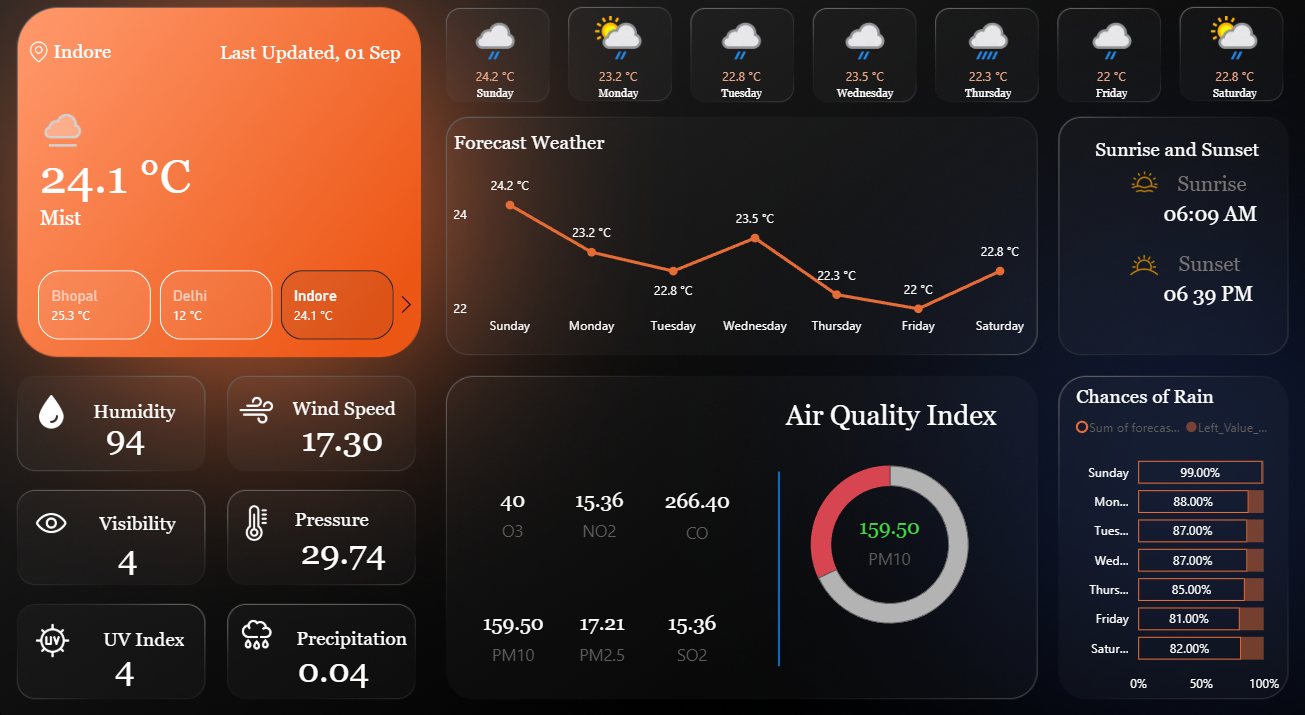

Layout of this report page (visuals, bound fields, positions):
{"tool":"powerbi","page":{"name":"Page 1","canvas":[1280,720],"ordinal":0},"visuals":[{"type":"advancedSlicerVisual","fields":{"Values":["Location.location.name"]},"box":[21,270.9,395.1,77.4],"z":0},{"type":"shape","box":[46.7,145.5,171.5,79.6],"z":1000},{"type":"shape","box":[46.6,196.2,324.2,58.2],"z":2000},{"type":"shape","box":[207.2,41.2,188,49.4],"z":3000},{"type":"shape","box":[60.4,43.9,102.9,42.5],"z":4000},{"type":"image","box":[22,50.8,49.4,30.2],"z":5000},{"type":"cardVisual","fields":{"Data":["Min(Current.current.condition.icon)"]},"box":[0,94.8,111.4,79.8],"z":6000},{"type":"image","box":[36.4,497.9,44.3,44.3],"z":7000},{"type":"image","box":[233.9,388.8,44.3,45.8],"z":8000},{"type":"image","box":[36.4,390.4,44.3,44.3],"z":9000},{"type":"image","box":[233.9,497.9,44.3,44.3],"z":10000},{"type":"image","box":[233.9,605.4,45,45],"z":11000},{"type":"image","box":[37.9,611.7,44.3,44.3],"z":12000},{"type":"shape","box":[77.5,387.3,101.2,50.6],"z":13000},{"type":"shape","box":[85.4,607,101.2,50.6],"z":14000},{"type":"shape","box":[289.3,605.4,112.2,50.6],"z":15000},{"type":"shape","box":[276.6,491.6,88.5,50.6],"z":16000},{"type":"shape","box":[93.3,494.7,85.4,50.6],"z":17000},{"type":"shape","box":[289.3,384.1,101.2,50.6],"z":18000},{"type":"card","fields":{"Values":["Sum(Current.current.humidity)"]},"box":[85.4,399.9,88.5,74.3],"z":19000},{"type":"card","fields":{"Values":["Sum(Current.current.wind_kph)"]},"box":[286,405.7,106.4,64.8],"z":20000},{"type":"card","fields":{"Values":["Sum(Current.current.vis_km)"]},"box":[96.4,520,71.1,64.8],"z":21000},{"type":"card","fields":{"Values":["Sum(Current.current.pressure_in)"]},"box":[289.3,509,101.2,75.9],"z":22000},{"type":"card","fields":{"Values":["Sum(Current.current.uv)"]},"box":[90.1,633.8,77.5,52.2],"z":23000},{"type":"card","fields":{"Values":["Sum(Current.current.precip_mm)"]},"box":[289.3,633.8,82.2,55.3],"z":24000},{"type":"advancedSlicerVisual","fields":{"Values":["Forecast_Day.Day_Name"]},"box":[429.9,17.4,828.3,124.9],"z":25000},{"type":"lineChart","title":"Forecast Weather","fields":{"Y":["Sum(Forecast_Day.forecast.forecastday.day.avgtemp_c)"],"Category":["Forecast_Day.Day_Name"]},"box":[441,142.3,569,205.5],"z":26000},{"type":"shape","box":[1052.7,134.4,183.4,50.6],"z":27000},{"type":"shape","box":[1131.7,196,102.7,52.2],"z":28000},{"type":"shape","box":[1146,241.8,90.1,56.9],"z":29000},{"type":"shape","box":[1131.7,276.6,104.3,44.3],"z":30000},{"type":"shape","box":[1144.4,173.9,75.9,37.9],"z":31000},{"type":"image","box":[1081.2,173.9,64.8,34.8],"z":32000},{"type":"image","box":[1084.3,248.2,56.9,45.8],"z":33000},{"type":"hundredPercentStackedBarChart","title":"Chances of Rain","fields":{"Category":["Forecast_Day.Day_Name"],"Y":["Sum(Forecast_Day.forecast.forecastday.day.daily_chance_of_rain)","_Measures.Left_Value_Rain"]},"box":[1042.6,387.4,206.2,306],"z":34000},{"type":"shape","box":[734.9,390.8,267.7,49.9],"z":35000},{"type":"card","fields":{"Values":["Sum(Current.current.air_quality.co)"]},"box":[628.5,465.6,106.4,89.8],"z":36000},{"type":"card","fields":{"Values":["Sum(Current.current.air_quality.o3)"]},"box":[457.3,463.9,93.1,89.8],"z":37000},{"type":"card","fields":{"Values":["Sum(Current.current.air_quality.so2)"]},"box":[628.5,583.6,96.4,89.8],"z":38000},{"type":"card","fields":{"Values":["Sum(Current.current.air_quality.pm2_5)"]},"box":[538.7,583.6,101.4,89.8],"z":39000},{"type":"card","fields":{"Values":["Sum(Forecast_Day.forecast.forecastday.day.air_quality.pm10)"]},"box":[460.6,583.6,86.5,89.8],"z":40000},{"type":"card","fields":{"Values":["Sum(Current.current.air_quality.no2)"]},"box":[547.1,467.2,81.5,84.8],"z":41000},{"type":"shape","box":[734.9,470.6,51.5,187.9],"z":42000},{"type":"card","fields":{"Values":["Sum(Forecast_Day.forecast.forecastday.day.air_quality.pm10)"]},"box":[824.2,491.3,86.5,89.5],"z":43000},{"type":"donutChart","fields":{"Y":["_Measures.Left_Value_PM10","Sum(Forecast_Day.forecast.forecastday.day.air_quality.pm10)"]},"box":[767.5,439.6,200.6,204.1],"z":43001}]}

Visuals, with their boxes in screenshot pixels (x1, y1, x2, y2), scaled from the page's 1280x720 canvas onto the 1305x715 screenshot:
advancedSlicerVisual - Location.location.name: pyautogui.locateOnScreen(21, 269, 424, 346)
shape: pyautogui.locateOnScreen(48, 144, 222, 224)
shape: pyautogui.locateOnScreen(48, 195, 378, 253)
shape: pyautogui.locateOnScreen(211, 41, 403, 90)
shape: pyautogui.locateOnScreen(62, 44, 166, 86)
image: pyautogui.locateOnScreen(22, 50, 73, 80)
cardVisual - Min(Current.current.condition.icon): pyautogui.locateOnScreen(0, 94, 114, 173)
image: pyautogui.locateOnScreen(37, 494, 82, 538)
image: pyautogui.locateOnScreen(238, 386, 284, 432)
image: pyautogui.locateOnScreen(37, 388, 82, 432)
image: pyautogui.locateOnScreen(238, 494, 284, 538)
image: pyautogui.locateOnScreen(238, 601, 284, 646)
image: pyautogui.locateOnScreen(39, 607, 84, 651)
shape: pyautogui.locateOnScreen(79, 385, 182, 435)
shape: pyautogui.locateOnScreen(87, 603, 190, 653)
shape: pyautogui.locateOnScreen(295, 601, 409, 651)
shape: pyautogui.locateOnScreen(282, 488, 372, 538)
shape: pyautogui.locateOnScreen(95, 491, 182, 542)
shape: pyautogui.locateOnScreen(295, 381, 398, 432)
card - Sum(Current.current.humidity): pyautogui.locateOnScreen(87, 397, 177, 471)
card - Sum(Current.current.wind_kph): pyautogui.locateOnScreen(292, 403, 400, 467)
card - Sum(Current.current.vis_km): pyautogui.locateOnScreen(98, 516, 171, 581)
card - Sum(Current.current.pressure_in): pyautogui.locateOnScreen(295, 505, 398, 581)
card - Sum(Current.current.uv): pyautogui.locateOnScreen(92, 629, 171, 681)
card - Sum(Current.current.precip_mm): pyautogui.locateOnScreen(295, 629, 379, 684)
advancedSlicerVisual - Forecast_Day.Day_Name: pyautogui.locateOnScreen(438, 17, 1283, 141)
"Forecast Weather" lineChart: pyautogui.locateOnScreen(450, 141, 1030, 345)
shape: pyautogui.locateOnScreen(1073, 133, 1260, 184)
shape: pyautogui.locateOnScreen(1154, 195, 1259, 246)
shape: pyautogui.locateOnScreen(1168, 240, 1260, 297)
shape: pyautogui.locateOnScreen(1154, 275, 1260, 319)
shape: pyautogui.locateOnScreen(1167, 173, 1244, 210)
image: pyautogui.locateOnScreen(1102, 173, 1168, 207)
image: pyautogui.locateOnScreen(1105, 246, 1163, 292)
"Chances of Rain" hundredPercentStackedBarChart: pyautogui.locateOnScreen(1063, 385, 1273, 689)
shape: pyautogui.locateOnScreen(749, 388, 1022, 438)
card - Sum(Current.current.air_quality.co): pyautogui.locateOnScreen(641, 462, 749, 552)
card - Sum(Current.current.air_quality.o3): pyautogui.locateOnScreen(466, 461, 561, 550)
card - Sum(Current.current.air_quality.so2): pyautogui.locateOnScreen(641, 580, 739, 669)
card - Sum(Current.current.air_quality.pm2_5): pyautogui.locateOnScreen(549, 580, 653, 669)
card - Sum(Forecast_Day.forecast.forecastday.day.air_quality.pm10): pyautogui.locateOnScreen(470, 580, 558, 669)
card - Sum(Current.current.air_quality.no2): pyautogui.locateOnScreen(558, 464, 641, 548)
shape: pyautogui.locateOnScreen(749, 467, 802, 654)
card - Sum(Forecast_Day.forecast.forecastday.day.air_quality.pm10): pyautogui.locateOnScreen(840, 488, 928, 577)
donutChart - _Measures.Left_Value_PM10 x Sum(Forecast_Day.forecast.forecastday.day.air_quality.pm10): pyautogui.locateOnScreen(782, 437, 987, 639)
